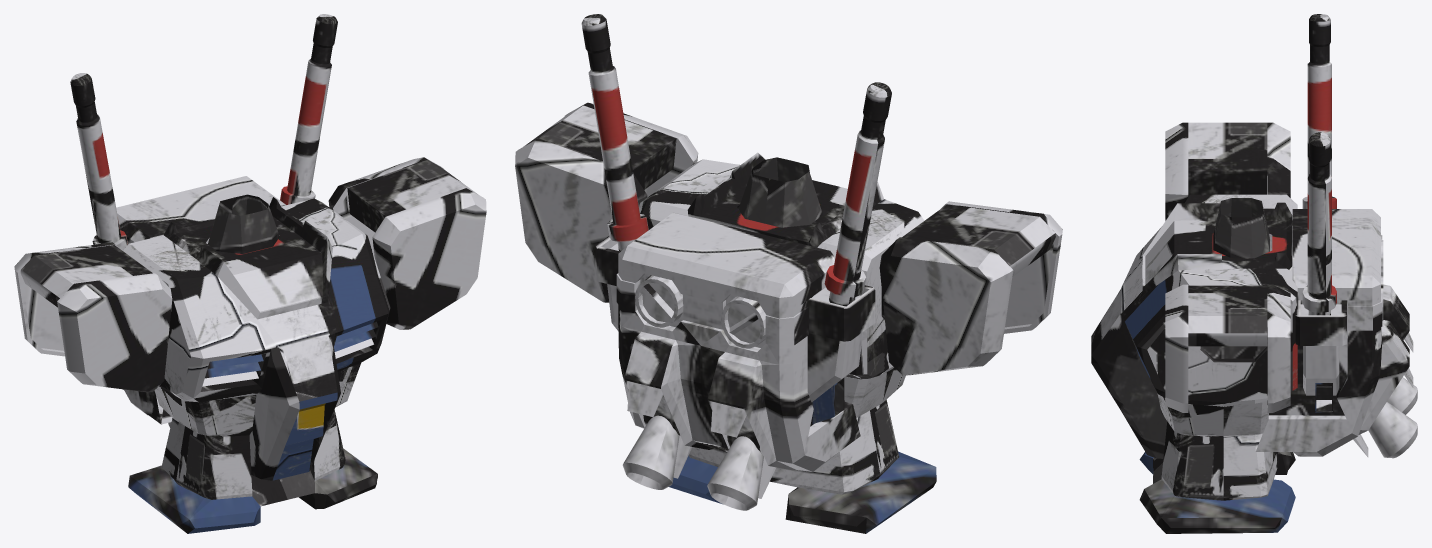
Rendered from body.obj.
The picture shows the model from 3 angles, left to right: view 1: azimuth 30°, elevation 25°; view 2: azimuth 150°, elevation 25°; view 3: azimuth 270°, elevation 25°; orthographic projection. The views are drawn at different scales.
Parts seen in each view (by area): view 1: group1 polySurface666 polySurface712, group1 polySurface666 polySurface671, group1 polySurface666 polySurface675, group1 polySurface666 polySurface716, group1 polySurface666 polySurface670, group1 polySurface666 polySurface678, group1 polySurface666 polySurface790, group1 polySurface666 polySurface674, group1 polySurface666 polySurface728, group1 polySurface666 polySurface673, group1 polySurface666 polySurface722, group1 polySurface666 polySurface677 (+1 smaller); view 2: group1 polySurface666 polySurface716, group1 polySurface666 polySurface712, group1 polySurface666 polySurface673, group1 polySurface666 polySurface677, group1 polySurface666 polySurface670, group1 polySurface666 polySurface790, group1 polySurface666 polySurface674, group1 polySurface666 polySurface723, group1 polySurface666 polySurface728, group1 polySurface666 polySurface678, group1 polySurface666 polySurface671, group1 polySurface666 polySurface780 (+6 smaller); view 3: group1 polySurface666 polySurface712, group1 polySurface666 polySurface716, group1 polySurface666 polySurface674, group1 polySurface666 polySurface678, group1 polySurface666 polySurface670, group1 polySurface666 polySurface725, group1 polySurface666 polySurface790, group1 polySurface666 polySurface728, group1 polySurface666 polySurface675, group1 polySurface666 polySurface677, group1 polySurface666 polySurface671, group1 polySurface666 polySurface718 (+3 smaller).
Boxes of the visible parts, left/top/right/bottom form: group1 polySurface666 polySurface712: left=123, top=197, right=390, bottom=533; group1 polySurface666 polySurface671: left=57, top=273, right=172, bottom=392; group1 polySurface666 polySurface675: left=372, top=188, right=486, bottom=329; group1 polySurface666 polySurface716: left=116, top=176, right=285, bottom=424; group1 polySurface666 polySurface670: left=280, top=14, right=337, bottom=204; group1 polySurface666 polySurface678: left=347, top=159, right=478, bottom=232; group1 polySurface666 polySurface790: left=70, top=73, right=127, bottom=250; group1 polySurface666 polySurface674: left=20, top=245, right=152, bottom=307; group1 polySurface666 polySurface728: left=208, top=194, right=279, bottom=253; group1 polySurface666 polySurface673: left=14, top=242, right=118, bottom=356; group1 polySurface666 polySurface722: left=202, top=354, right=263, bottom=386; group1 polySurface666 polySurface677: left=328, top=157, right=443, bottom=256; group1 polySurface666 polySurface716: left=616, top=212, right=860, bottom=498; group1 polySurface666 polySurface712: left=639, top=152, right=936, bottom=533; group1 polySurface666 polySurface673: left=879, top=237, right=1013, bottom=375; group1 polySurface666 polySurface677: left=515, top=138, right=647, bottom=302; group1 polySurface666 polySurface670: left=581, top=14, right=648, bottom=251; group1 polySurface666 polySurface790: left=824, top=82, right=891, bottom=306; group1 polySurface666 polySurface674: left=902, top=204, right=1055, bottom=276; group1 polySurface666 polySurface723: left=807, top=285, right=875, bottom=402; group1 polySurface666 polySurface728: left=738, top=157, right=822, bottom=227; group1 polySurface666 polySurface678: left=523, top=105, right=676, bottom=189; group1 polySurface666 polySurface671: left=941, top=201, right=1062, bottom=333; group1 polySurface666 polySurface780: left=707, top=436, right=763, bottom=510; group1 polySurface666 polySurface712: left=1091, top=194, right=1297, bottom=533; group1 polySurface666 polySurface716: left=1255, top=209, right=1413, bottom=457; group1 polySurface666 polySurface674: left=1188, top=122, right=1267, bottom=195; group1 polySurface666 polySurface678: left=1188, top=285, right=1267, bottom=346; group1 polySurface666 polySurface670: left=1302, top=132, right=1336, bottom=315; group1 polySurface666 polySurface725: left=1295, top=300, right=1346, bottom=395; group1 polySurface666 polySurface790: left=1302, top=14, right=1336, bottom=208; group1 polySurface666 polySurface728: left=1213, top=198, right=1269, bottom=258; group1 polySurface666 polySurface675: left=1165, top=284, right=1188, bottom=412; group1 polySurface666 polySurface677: left=1267, top=284, right=1290, bottom=412; group1 polySurface666 polySurface671: left=1165, top=122, right=1188, bottom=220; group1 polySurface666 polySurface718: left=1368, top=402, right=1417, bottom=458.
Bounding box in the file's own units: 10.81 × 9.93 × 7.13.
1 material, 1 textured.
